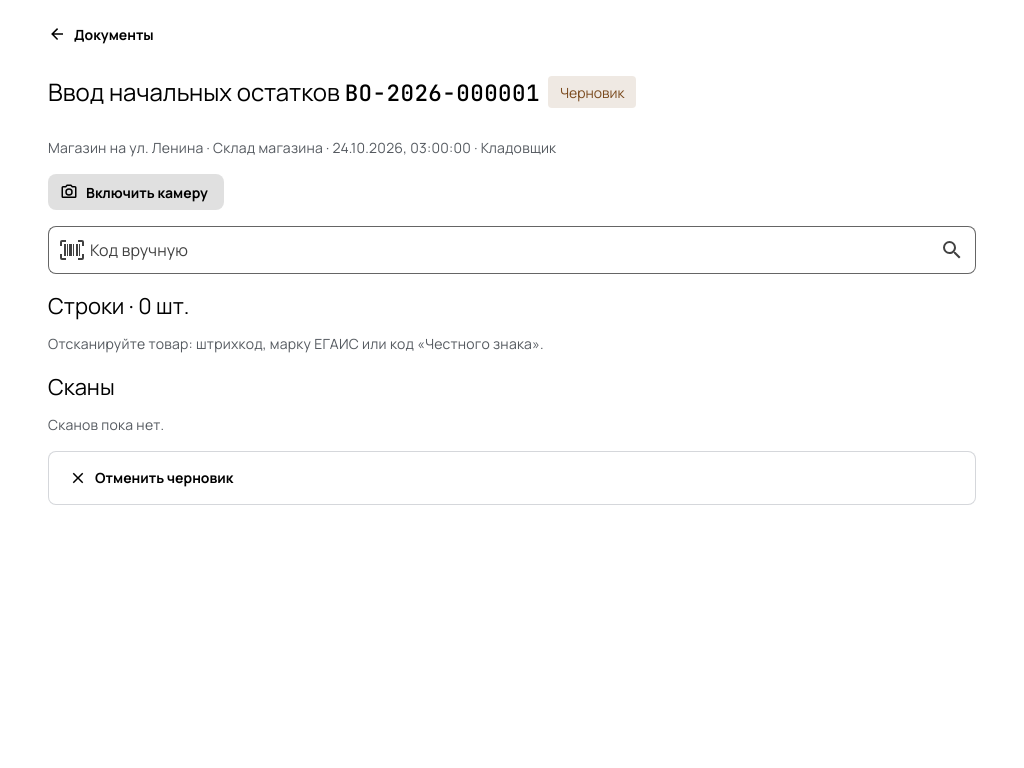
Test case: DocumentPage › штрихкод выбирает товар, марки нового образца относятся к нему и наращивают строку
In the field labelled "Код вручную": point(512, 250) [84,226,940,274], type "4600000000017"
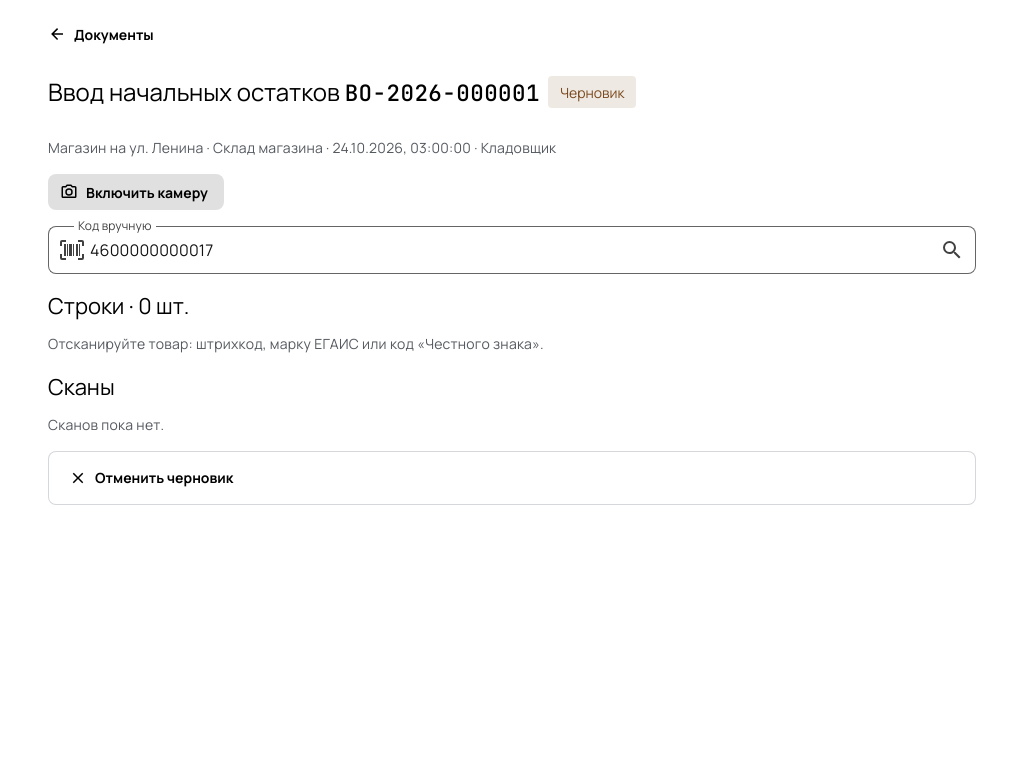
Submit the form, box [48,226,976,274]
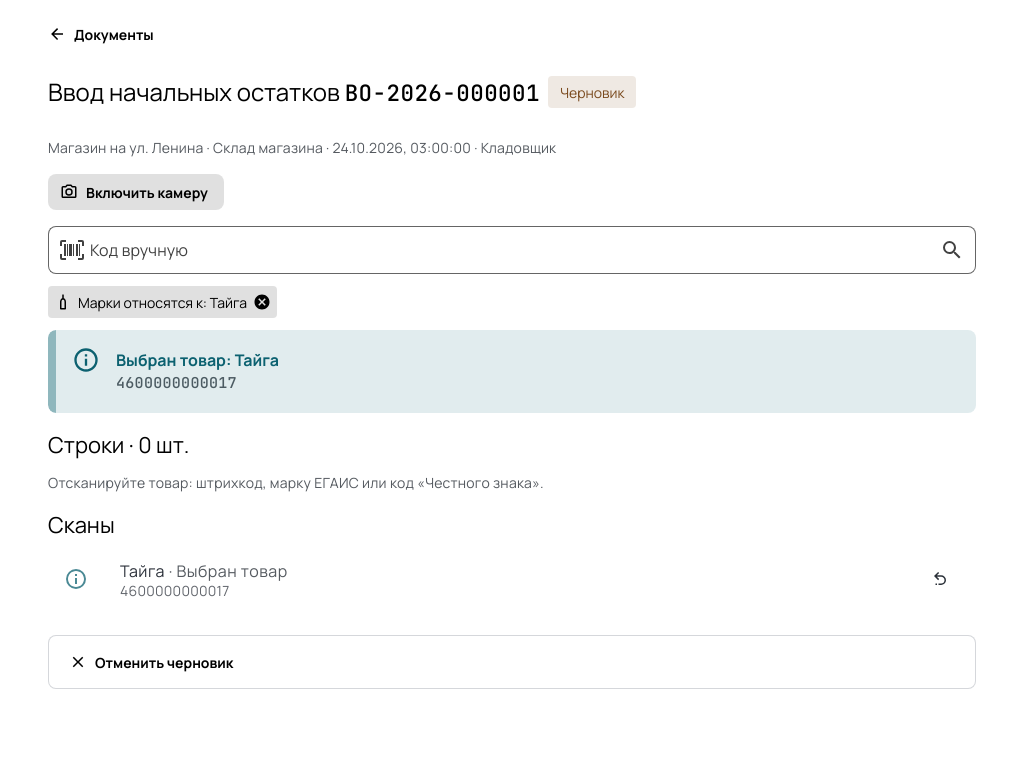
Check: the element with test id "selected" shows "Тайга", box [78,293,247,312]
In the field labelled "Код вручную": point(512, 250) [84,226,940,274], type "PKN0000000000001"
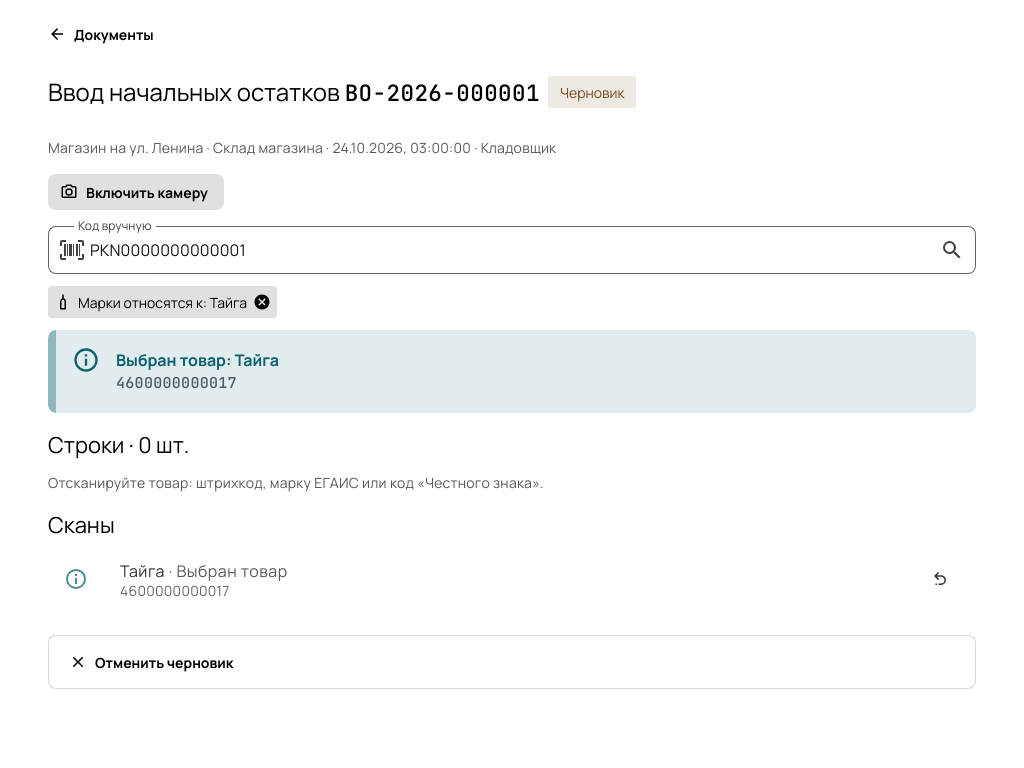
Submit the form, box [48,226,976,274]
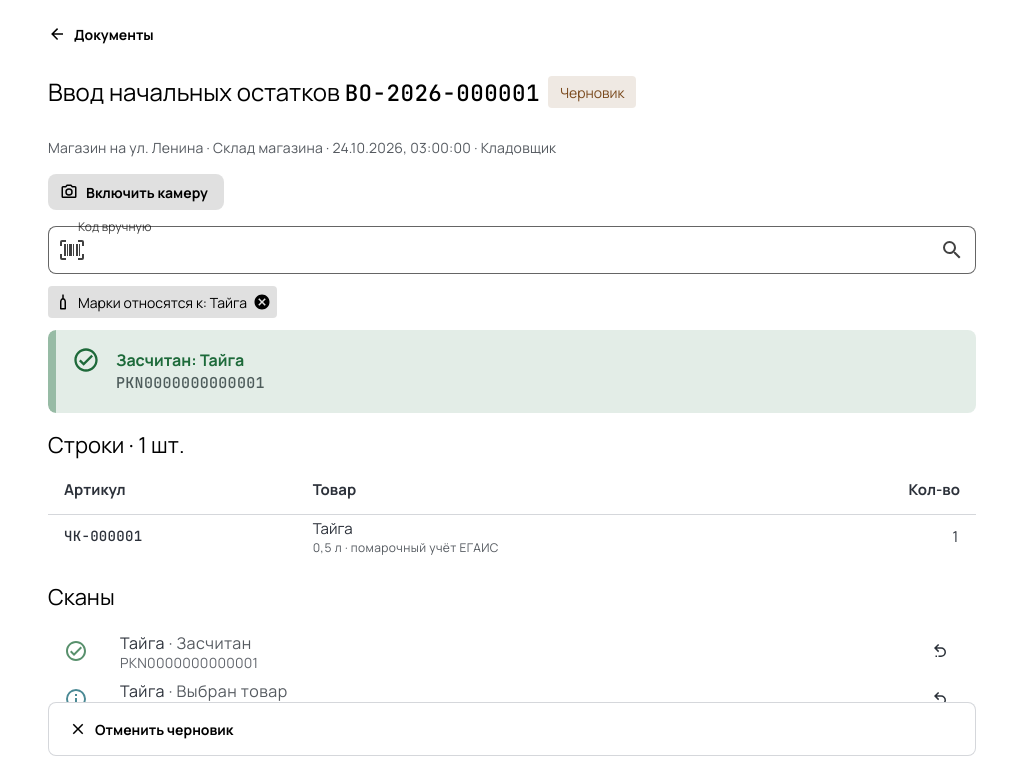
Check: the element with test id "lines" shows "ЧК-000001", box [64,527,142,545]
Check: the number of list items with test id "scan" is 2, box [48,627,976,675]; [48,675,976,723]
